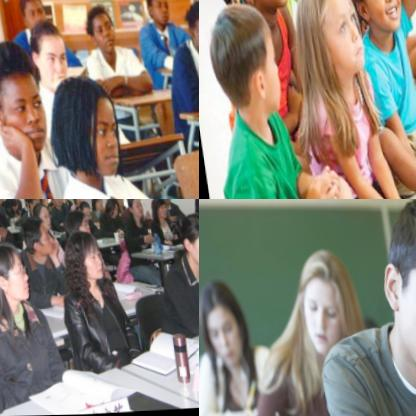head: (43, 68, 126, 190), (199, 2, 283, 122), (367, 199, 416, 394), (285, 251, 362, 358), (294, 0, 365, 79), (0, 42, 47, 154), (199, 281, 246, 367), (25, 18, 73, 95), (52, 229, 99, 287), (331, 0, 404, 31), (83, 3, 121, 55), (0, 244, 27, 311), (14, 213, 50, 261), (175, 215, 199, 270), (178, 0, 199, 61), (55, 207, 86, 246), (16, 0, 49, 36), (139, 0, 172, 29), (27, 203, 47, 228), (142, 199, 161, 220), (97, 199, 115, 219), (121, 199, 139, 218), (71, 201, 88, 220), (84, 199, 100, 214), (21, 199, 37, 213), (187, 199, 199, 215), (3, 199, 15, 212), (0, 211, 5, 241), (42, 199, 56, 208), (65, 199, 79, 207), (14, 199, 30, 206), (106, 199, 119, 207), (152, 199, 166, 205), (31, 199, 43, 202)
